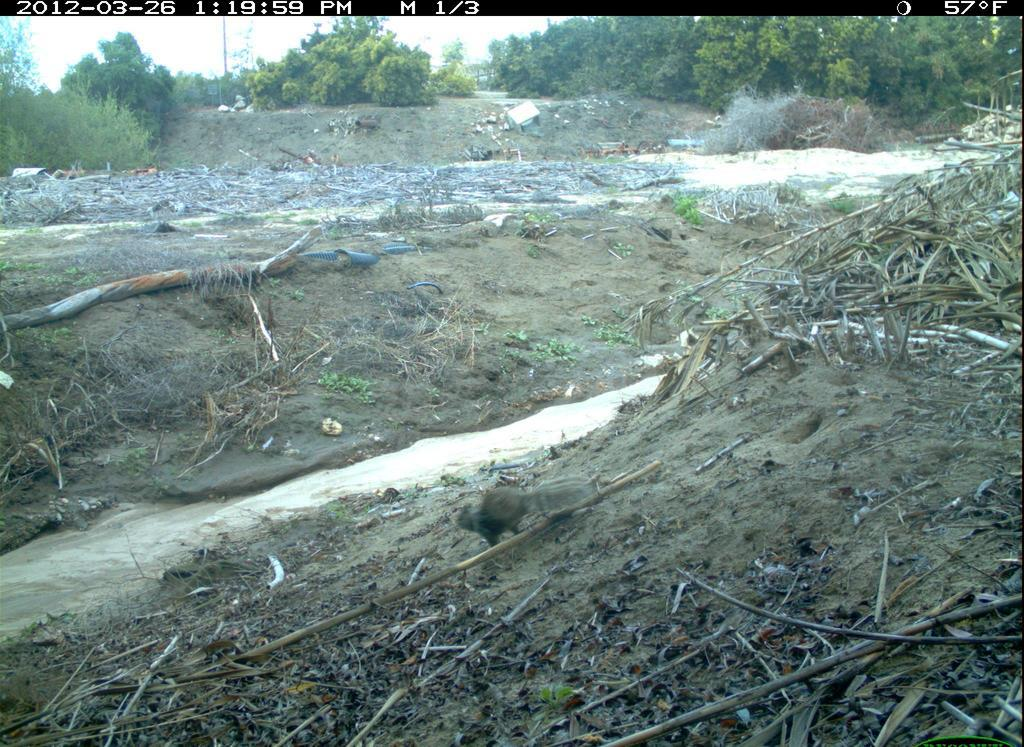squirrel: (449, 474, 595, 564)
